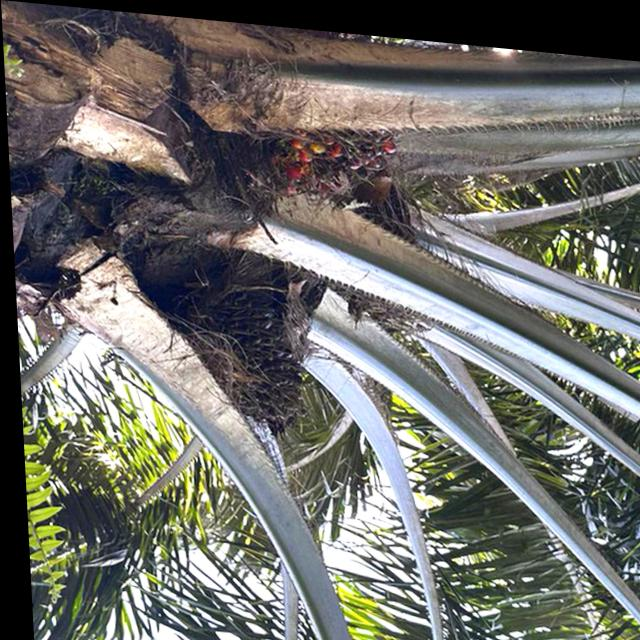almost: (158, 246, 311, 435), (222, 94, 410, 212)
